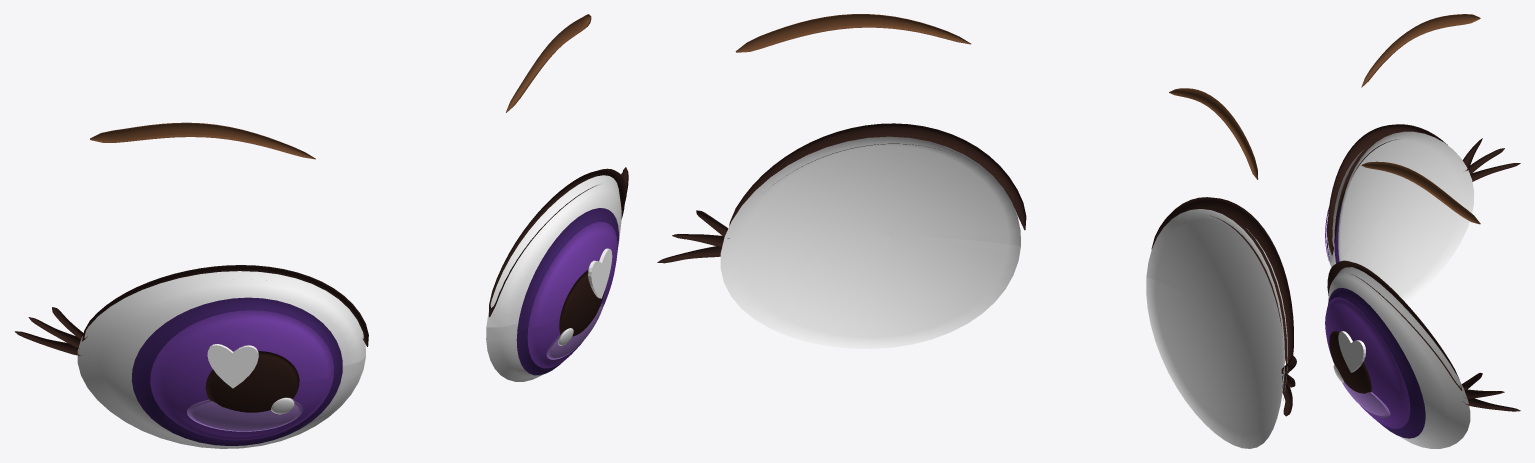
The model's file is eyes-sleepy.glb.
3 renders of one model, left to right at view 1: azimuth 30°, elevation 25°; view 2: azimuth 150°, elevation 25°; view 3: azimuth 270°, elevation 25°, orthographic. The views are drawn at different scales.
Parts seen in each view (by area): view 1: eyeball, iris, eyeballR, irisrim, irisR, brows, pupil, irisrimR, irislight, lid, pupilR, shine (+3 smaller); view 2: eyeballR, eyeball, lidR, brows, lid; view 3: eyeball, eyeballR, irisR, brows, irisrimR, lid, lidR, pupilR, shineR, irislightR, lash2R, lash2 (+3 smaller).
Part boxes in pixels (bbox=[...]): eyeball: bbox=[77, 271, 365, 448]; iris: bbox=[150, 310, 333, 440]; eyeballR: bbox=[486, 175, 621, 381]; irisrim: bbox=[131, 297, 342, 445]; irisR: bbox=[527, 221, 617, 368]; brows: bbox=[90, 14, 591, 159]; pupil: bbox=[205, 351, 299, 412]; irisrimR: bbox=[516, 208, 618, 375]; irislight: bbox=[187, 399, 302, 431]; lid: bbox=[82, 265, 368, 346]; pupilR: bbox=[559, 270, 605, 336]; shine: bbox=[207, 344, 258, 388]; eyeballR: bbox=[720, 136, 1020, 348]; eyeball: bbox=[1146, 209, 1288, 448]; lidR: bbox=[729, 123, 1026, 230]; brows: bbox=[735, 14, 1258, 179]; lid: bbox=[1151, 197, 1293, 372]; eyeball: bbox=[1328, 131, 1474, 302]; eyeballR: bbox=[1328, 267, 1470, 448]; irisR: bbox=[1325, 297, 1410, 428]; brows: bbox=[1361, 14, 1480, 224]; irisrimR: bbox=[1328, 288, 1425, 438]; lid: bbox=[1327, 124, 1447, 255]; lidR: bbox=[1327, 260, 1461, 390]; pupilR: bbox=[1329, 331, 1371, 393]; shineR: bbox=[1338, 331, 1365, 372]; irislightR: bbox=[1342, 381, 1390, 417]; lash2R: bbox=[1463, 396, 1520, 411]; lash2: bbox=[1470, 163, 1520, 181].
Size of the model in its own units: 0.7783 by 0.3973 by 0.2597.
